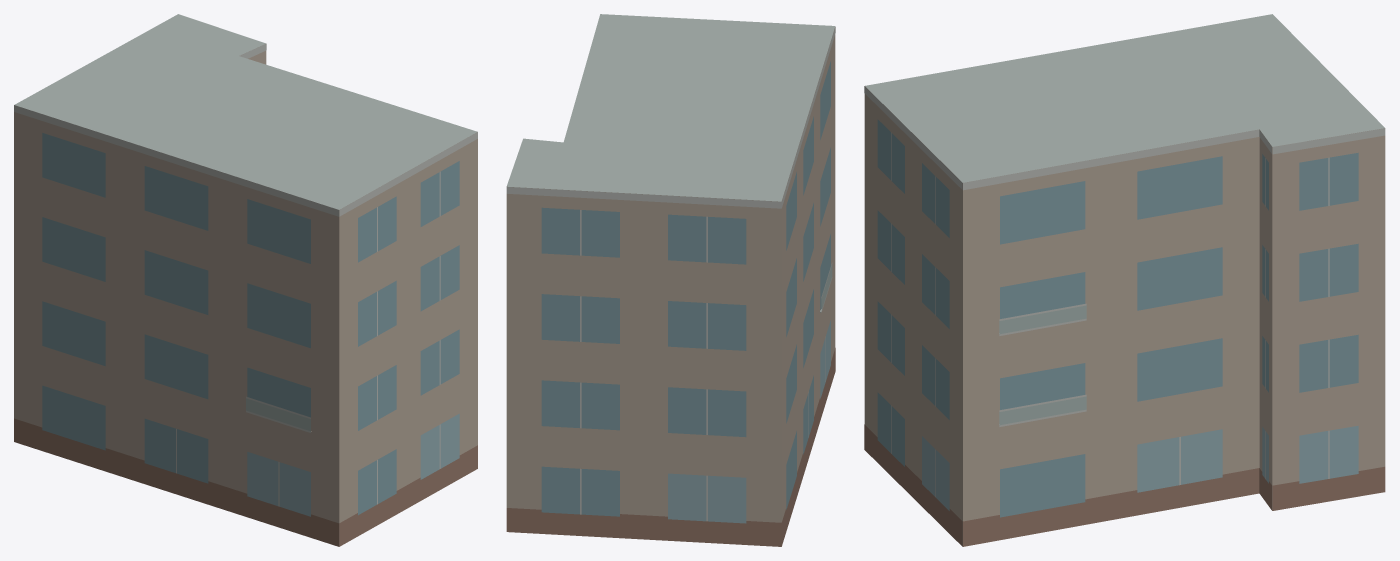
The model's file is survey-upis-32853083.glb.
3 views of the same model, side by side, from view 1: azimuth 30°, elevation 25°; view 2: azimuth 150°, elevation 25°; view 3: azimuth 270°, elevation 25° (orthographic). The views are drawn at different scales.
Parts seen in each view (by area): view 1: survey-upis-32853083.tmp; view 2: survey-upis-32853083.tmp; view 3: survey-upis-32853083.tmp.
Boxes of the visible parts, left/top/right/bottom form: survey-upis-32853083.tmp: left=14, top=14, right=477, bottom=546; survey-upis-32853083.tmp: left=506, top=14, right=835, bottom=546; survey-upis-32853083.tmp: left=864, top=14, right=1385, bottom=546.
Size of the model in its own units: 11.85 by 11.9 by 15.44.
